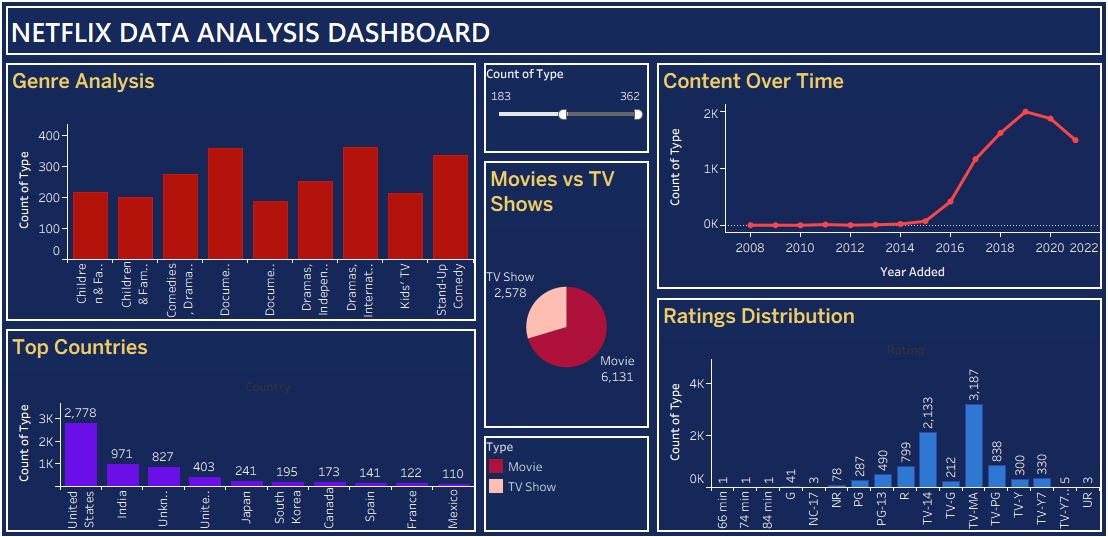

The page's visual inventory and layout, read from the dashboard file:
{"tool":"tableau","page":{"name":"Dashboard 1","canvas":[1120,560],"ordinal":0},"visuals":[{"type":"title","box":[8,8,1104,57]},{"type":"worksheet","title":"Sheet 7","mark":"Automatic","rows":["type"],"cols":["listed_in"],"box":[8,65,478,272]},{"type":"filter","title":"Sheet 7","param":"[federated.1woozjq0b6vjz017dg3e71aebc9v].[cnt:type:qk]","box":[486,65,173,98]},{"type":"worksheet","title":"Sheet 4","mark":"Line","rows":["type"],"cols":["year_added"],"box":[659,65,453,239.5]},{"type":"worksheet","title":"Sheet 3","mark":"Pie","box":[486,163,173,285]},{"type":"worksheet","title":"Sheet 6","mark":"Automatic","rows":["type"],"cols":["rating"],"box":[659,304.5,453,247.5]},{"type":"worksheet","title":"Sheet 5","mark":"Bar","rows":["type"],"cols":["country"],"box":[8,337,478,215]},{"type":"legend","title":"Sheet 3","param":"[federated.1woozjq0b6vjz017dg3e71aebc9v].[none:type:nk]","box":[486,448,173,104]}]}

Visuals, with their boxes in screenshot pixels (x1, y1, x2, y2):
title: <bbox>5, 0, 1087, 55</bbox>
"Sheet 7" worksheet: <bbox>5, 55, 473, 322</bbox>
"Sheet 7" filter: <bbox>473, 55, 643, 151</bbox>
"Sheet 4" worksheet (Line marks): <bbox>643, 55, 1087, 290</bbox>
"Sheet 3" worksheet (Pie marks): <bbox>473, 151, 643, 430</bbox>
"Sheet 6" worksheet: <bbox>643, 290, 1087, 532</bbox>
"Sheet 5" worksheet (Bar marks): <bbox>5, 322, 473, 532</bbox>
"Sheet 3" legend: <bbox>473, 430, 643, 532</bbox>
